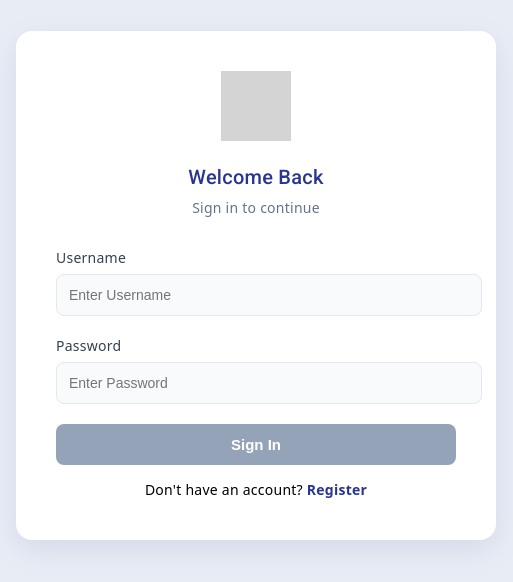
Test: User Auth Flow Tests › should show error message for invalid credentials
Type "invalid" into the field with test id "username-input" at point(269, 295), box [56, 274, 482, 316]
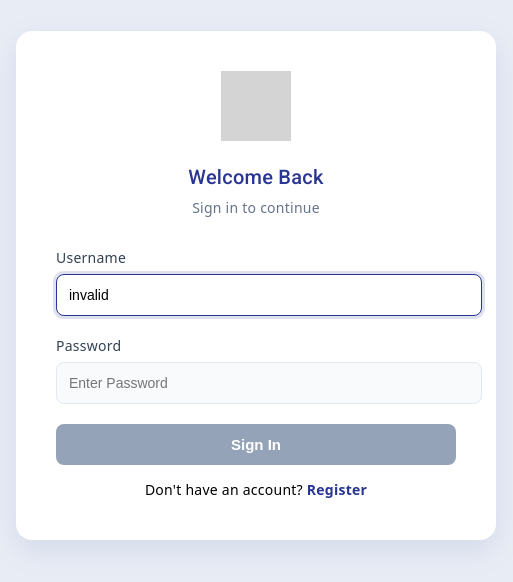
Type "invalid123" into the password field with test id "username-password" at point(269, 383), box [56, 362, 482, 404]
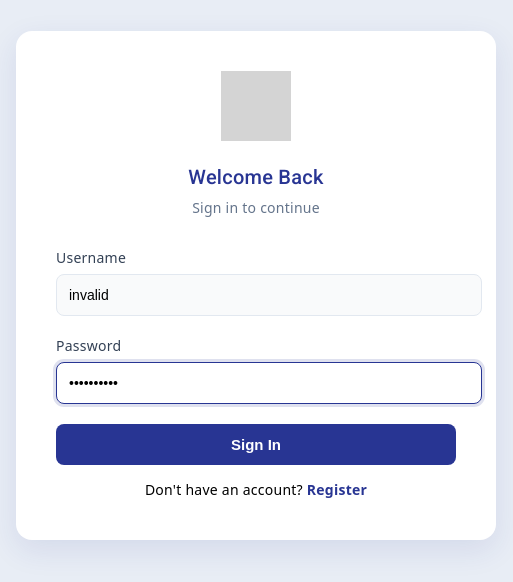
Click the submit button at point(256, 445), box [56, 424, 456, 465]
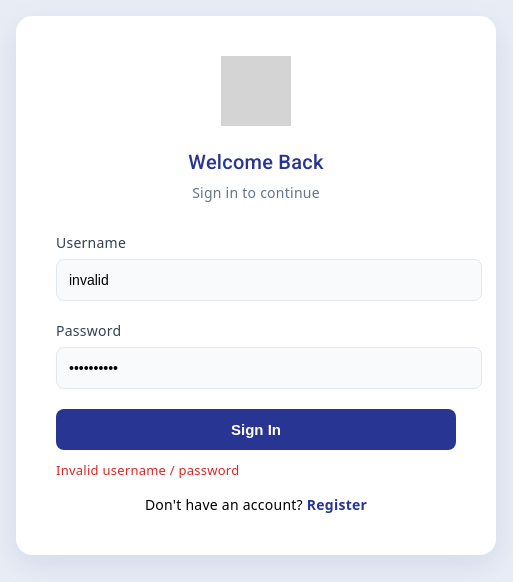
Check: the text "Invalid username / password" is shown, box [56, 460, 240, 478]
Check: the text with class "error" reads "Invalid username / password", box [56, 461, 239, 479]
